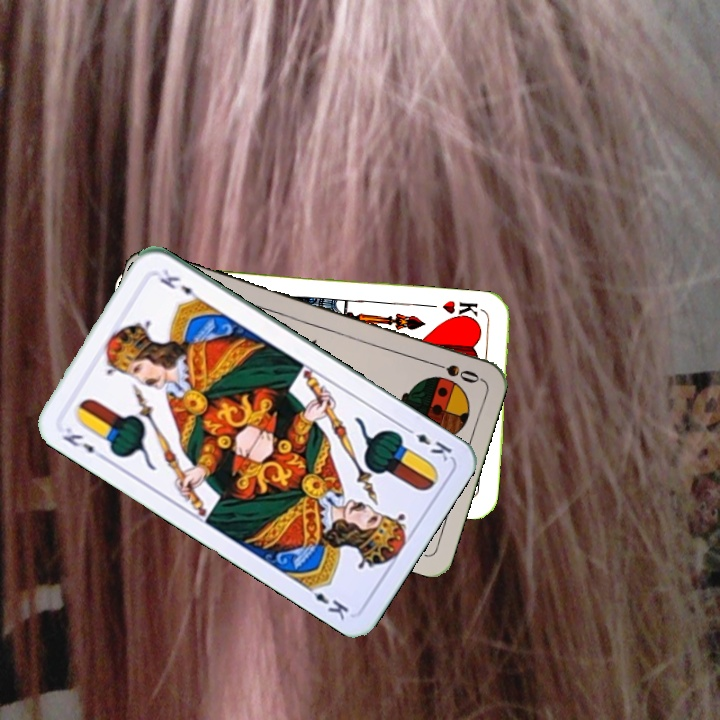EK: (400, 423, 455, 464), (55, 420, 108, 460)
HK: (438, 296, 488, 324)
SO: (425, 357, 482, 386)
